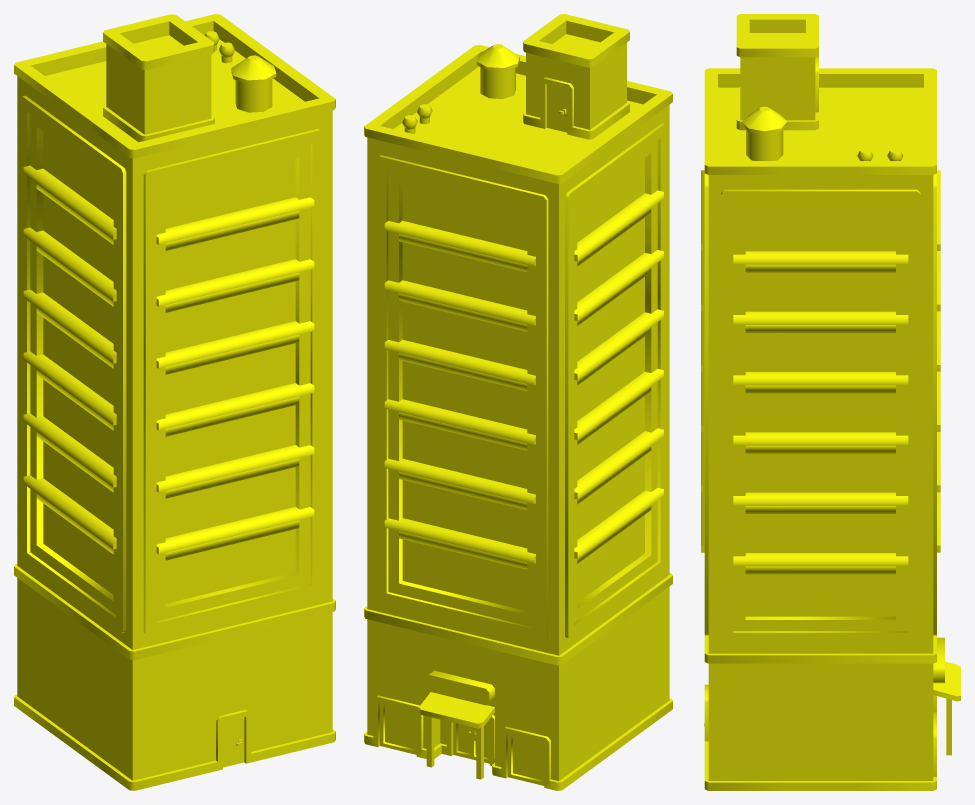
The model's file is industrial-2.glb.
The picture shows the model from 3 angles, left to right: view 1: azimuth 30°, elevation 25°; view 2: azimuth 150°, elevation 25°; view 3: azimuth 270°, elevation 25°; orthographic projection. The views are drawn at different scales.
Parts seen in each view (by area): view 1: building-skyscraper-c; view 2: building-skyscraper-c; view 3: building-skyscraper-c.
Part boxes in pixels (x1,y1,x2,y2): building-skyscraper-c: (14,14,335,790); building-skyscraper-c: (364,14,672,790); building-skyscraper-c: (701,14,960,790).
Size of the model in its own units: 1.28 by 4.08 by 1.39.
Materials: 1 (1 with a texture image).
